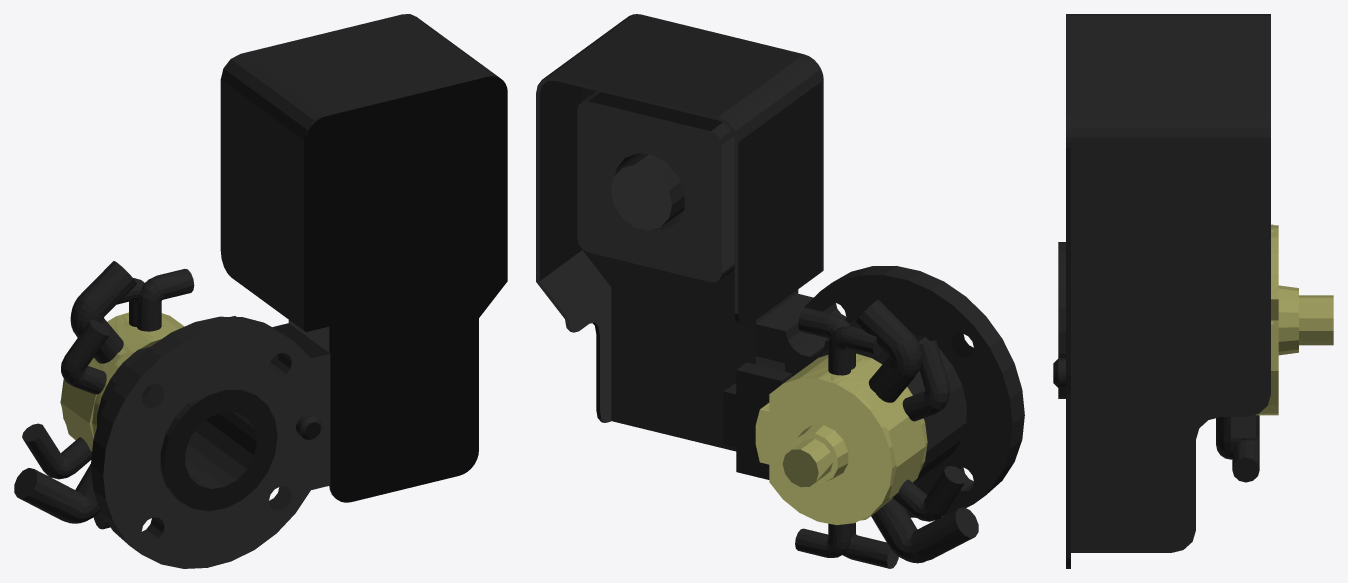
The model's file is L_CAM.obj.
3 renders of one model, left to right at view 1: azimuth 30°, elevation 25°; view 2: azimuth 150°, elevation 25°; view 3: azimuth 270°, elevation 25°, orthographic. The views are drawn at different scales.
Visible parts, largest first — view 1: shape1-lib, shape0-lib; view 2: shape1-lib, shape0-lib; view 3: shape1-lib, shape0-lib.
Boxes of the visible parts, x1,y1,x2,y2 form: shape1-lib: [14, 14, 507, 568]; shape0-lib: [60, 312, 184, 451]; shape1-lib: [536, 14, 1024, 568]; shape0-lib: [755, 353, 927, 525]; shape1-lib: [1053, 14, 1270, 568]; shape0-lib: [1256, 224, 1333, 415].
Bounding box in the file's own units: 0.1171 × 0.1125 × 0.056.
